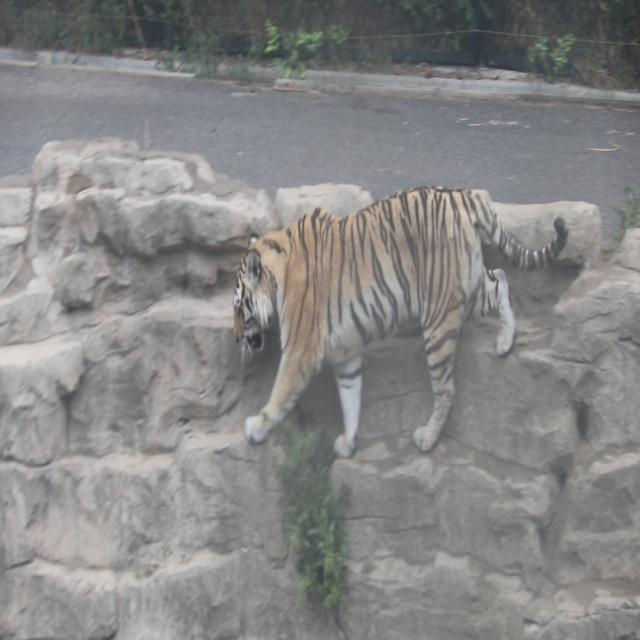Tiger: (212, 172, 579, 518)
